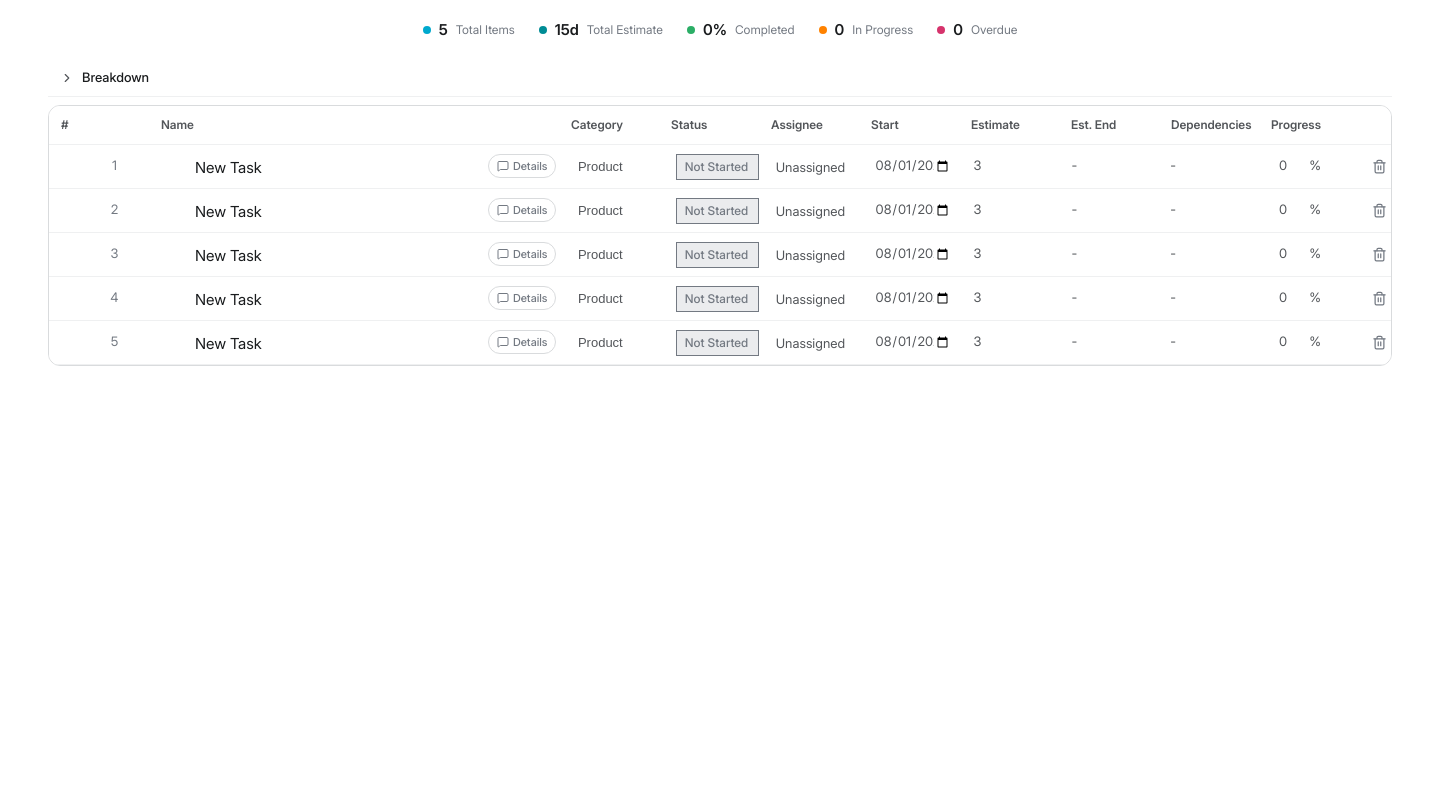
Test: TasksView › upcoming milestones list caps at 3 with a "+N more" control that expands
The image size is (1440, 810).
Step 1. Click the text "Breakdown" → (105, 77), box [60, 69, 149, 85]
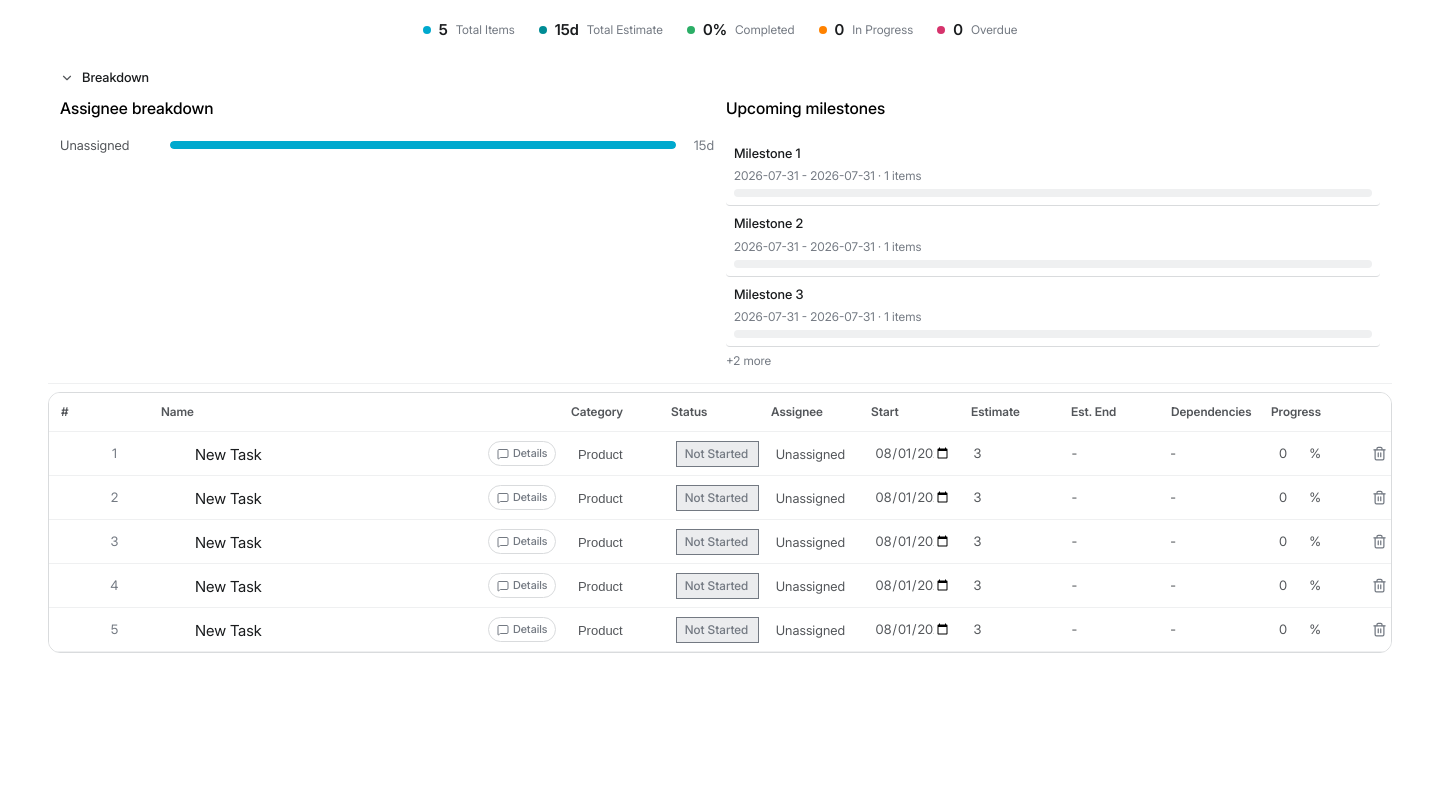
Expected: the element that starts with "Assignee breakdown" is shown, [48, 96, 1392, 383]
Expected: the button "+2 more" is shown
# Click expand
Step 2. Click the button "+2 more" → (749, 361), box [726, 352, 771, 370]
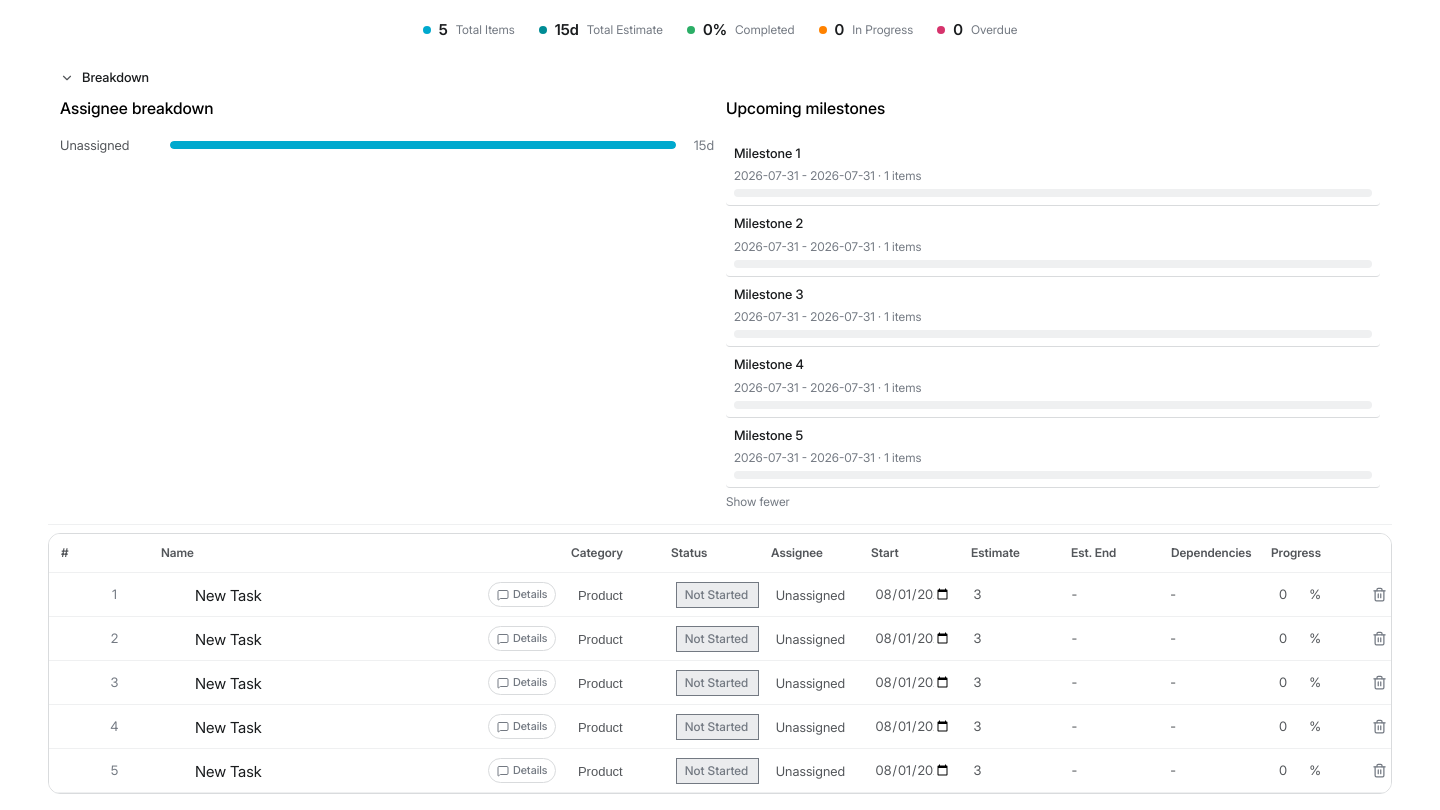
Expected: the button "Show fewer" is shown
# Click to collapse
Step 3. Click the button "Show fewer" → (758, 502), box [726, 493, 790, 511]
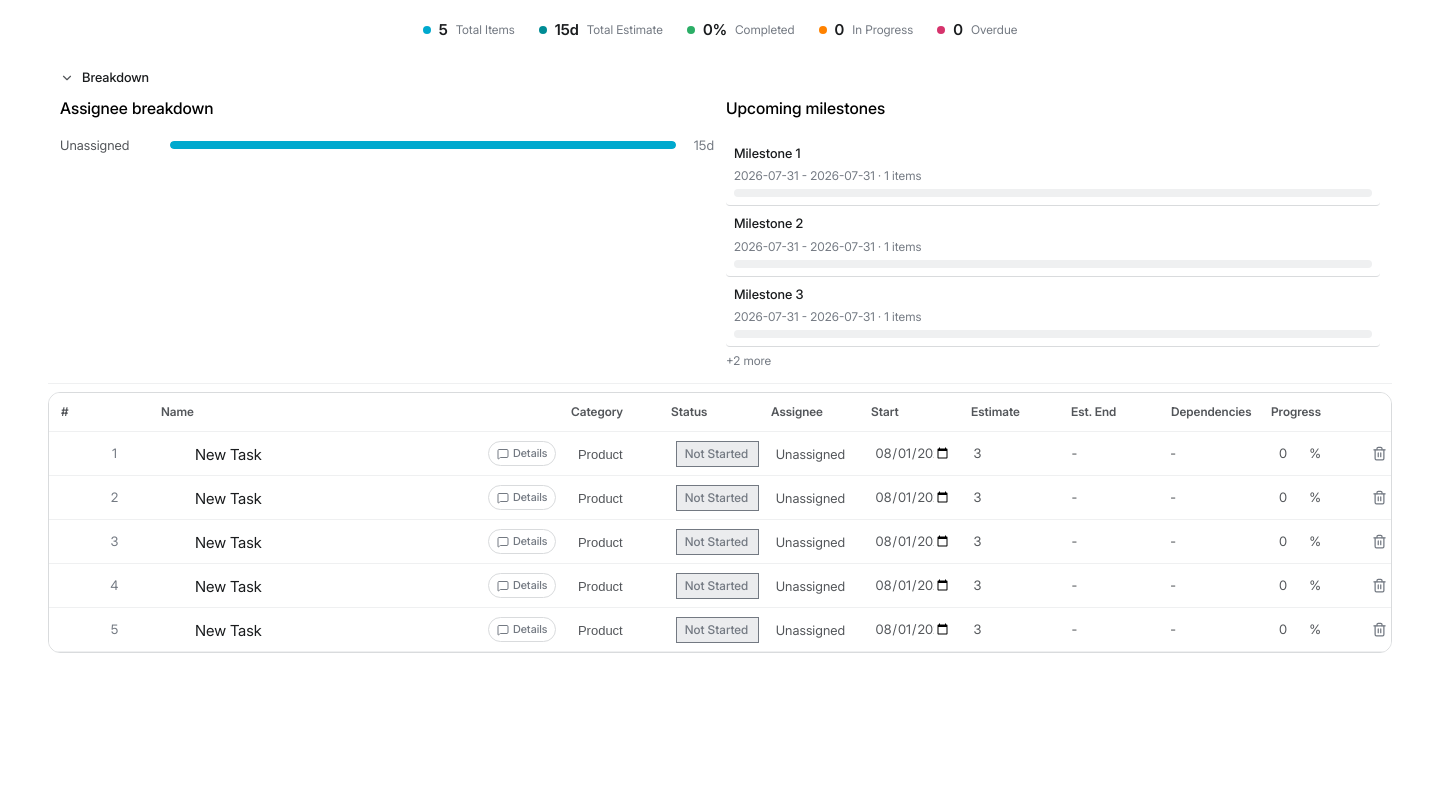
Expected: the button "+2 more" is shown, [726, 352, 771, 370]
